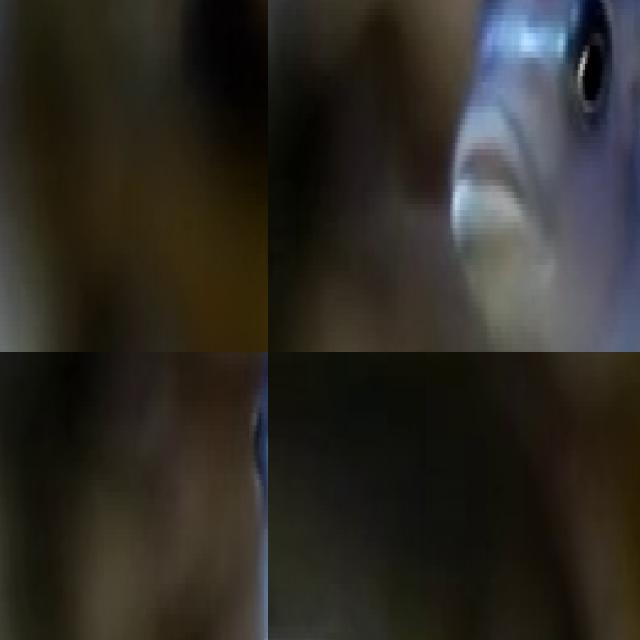fish: (0, 0, 268, 352), (423, 0, 640, 352)
